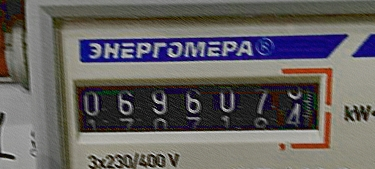0: (218, 84, 236, 114), (83, 88, 100, 116)
4: (285, 99, 302, 128)
6: (185, 85, 202, 114), (117, 87, 134, 115)
7: (252, 85, 271, 116)
9: (150, 87, 168, 115)
screen: (61, 63, 338, 149)
